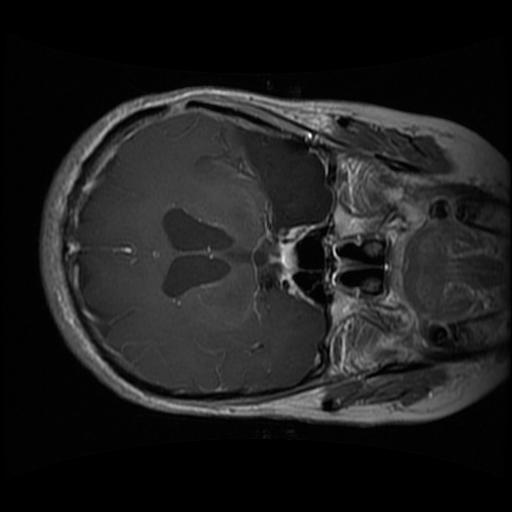glioma: (225, 125, 330, 238)
